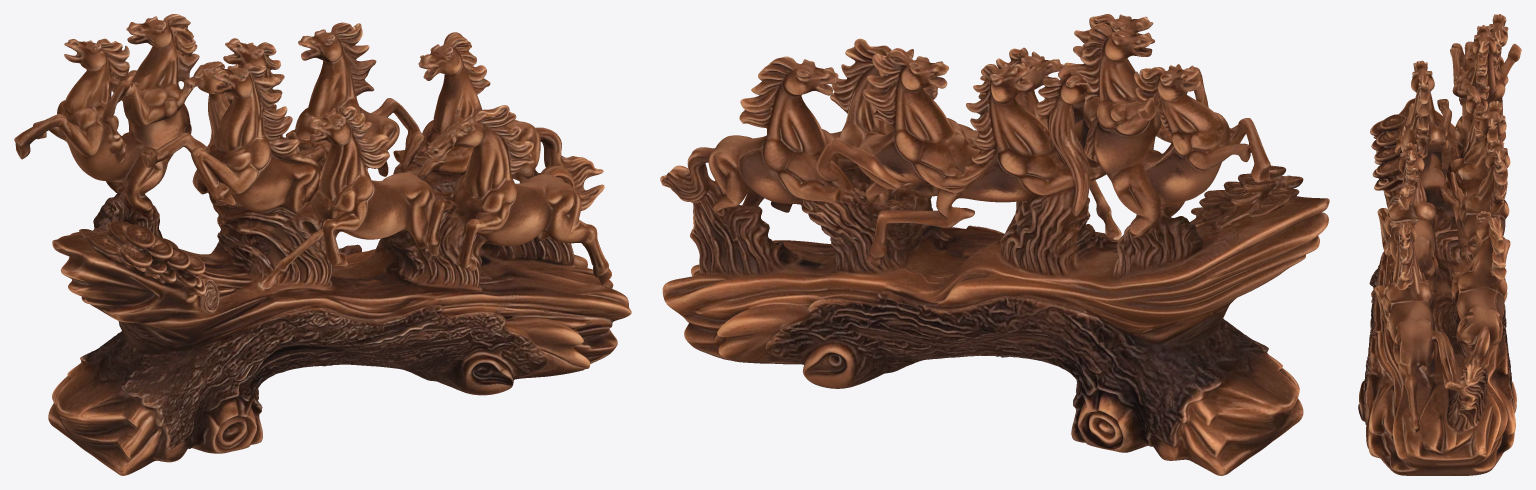
File: Brown horses.glb
3 renders of one model, left to right at view 1: azimuth 30°, elevation 25°; view 2: azimuth 150°, elevation 25°; view 3: azimuth 270°, elevation 25°, orthographic. The views are drawn at different scales.
Parts seen in each view (by area): view 1: mesh_node; view 2: mesh_node; view 3: mesh_node.
Part boxes in pixels (x1,y1,x2,y2): mesh_node: [14, 14, 631, 475]; mesh_node: [660, 14, 1329, 475]; mesh_node: [1358, 14, 1521, 475].
Bounding box in the file's own units: 1.9 × 1.21 × 0.609.
Materials: 1 (1 with a texture image).
